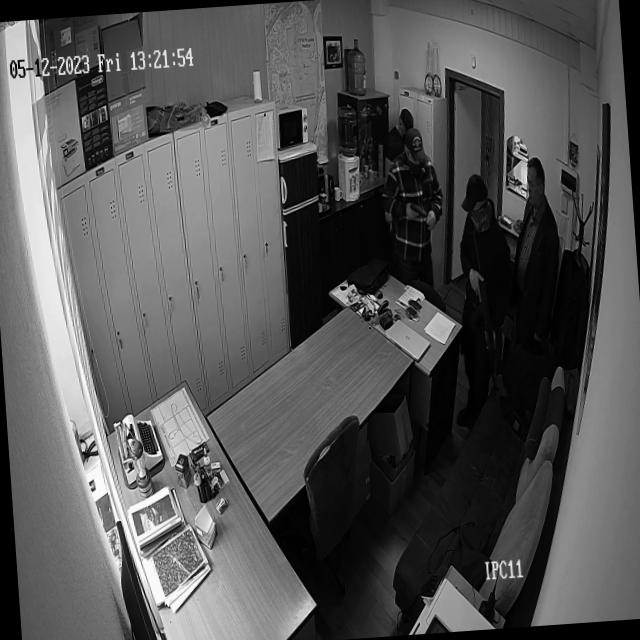gun: (477, 281, 509, 474), (406, 180, 433, 237)
person: (508, 148, 568, 339)
person with a gun: (376, 118, 458, 366), (466, 268, 520, 464)
